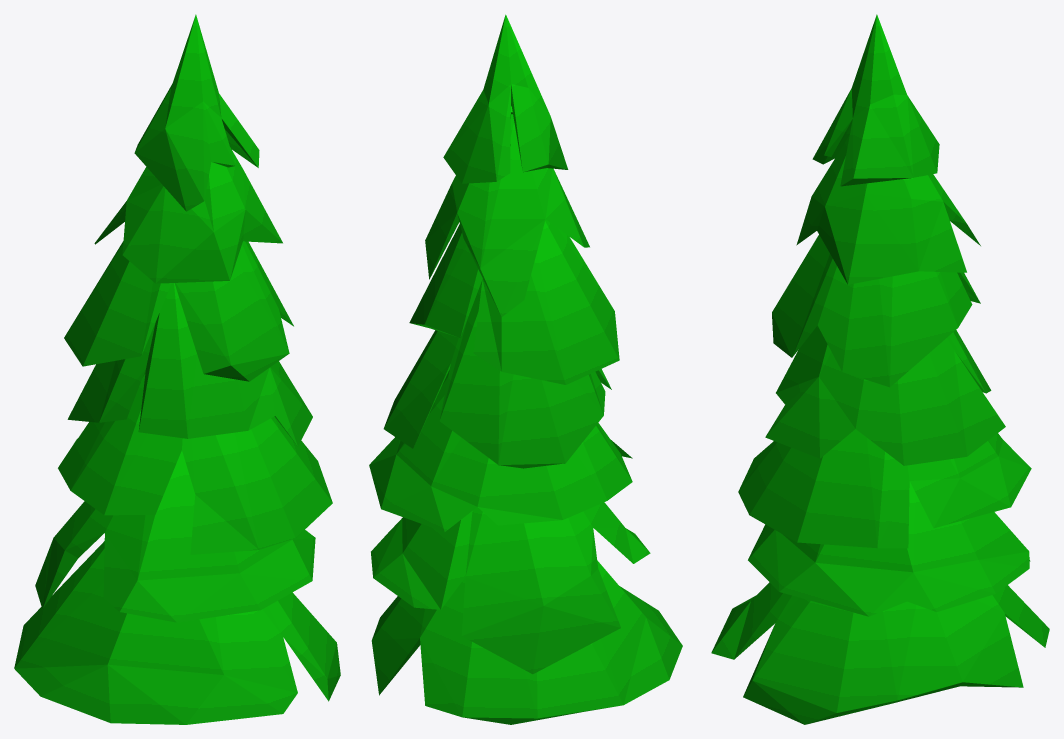
The model's file is Prefab_Foliage_Tree_Spruce_Leaves_A.glb.
3 views of the same model, side by side, from view 1: azimuth 30°, elevation 25°; view 2: azimuth 150°, elevation 25°; view 3: azimuth 270°, elevation 25° (orthographic).
Parts seen in each view (by area): view 1: Spruce_A_Trunk.003; view 2: Spruce_A_Trunk.003; view 3: Spruce_A_Trunk.003.
Boxes of the visible parts, left/top/right/bottom form: Spruce_A_Trunk.003: left=14, top=14, right=340, bottom=724; Spruce_A_Trunk.003: left=369, top=14, right=682, bottom=724; Spruce_A_Trunk.003: left=711, top=14, right=1049, bottom=724.
Bounding box in the file's own units: 5.47 × 12.21 × 5.69.
1 material, 1 textured.
